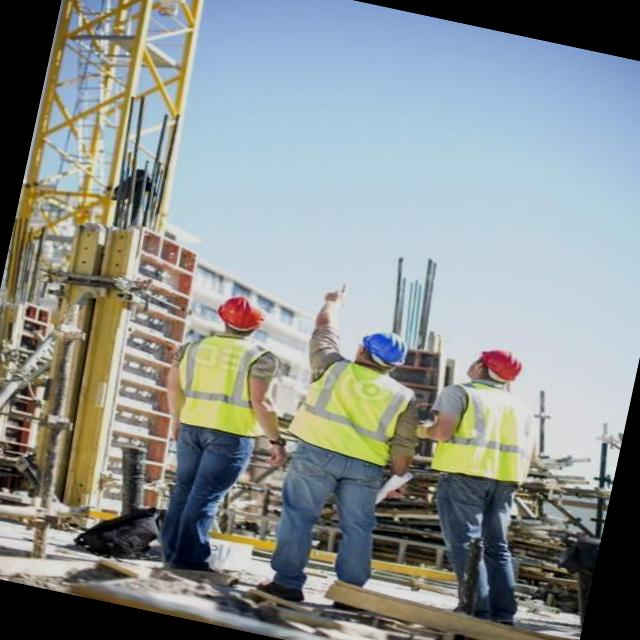helmet: (208, 286, 274, 340), (354, 322, 417, 374), (475, 340, 539, 390)
vest: (278, 346, 426, 479), (167, 324, 275, 443), (433, 378, 544, 492)
